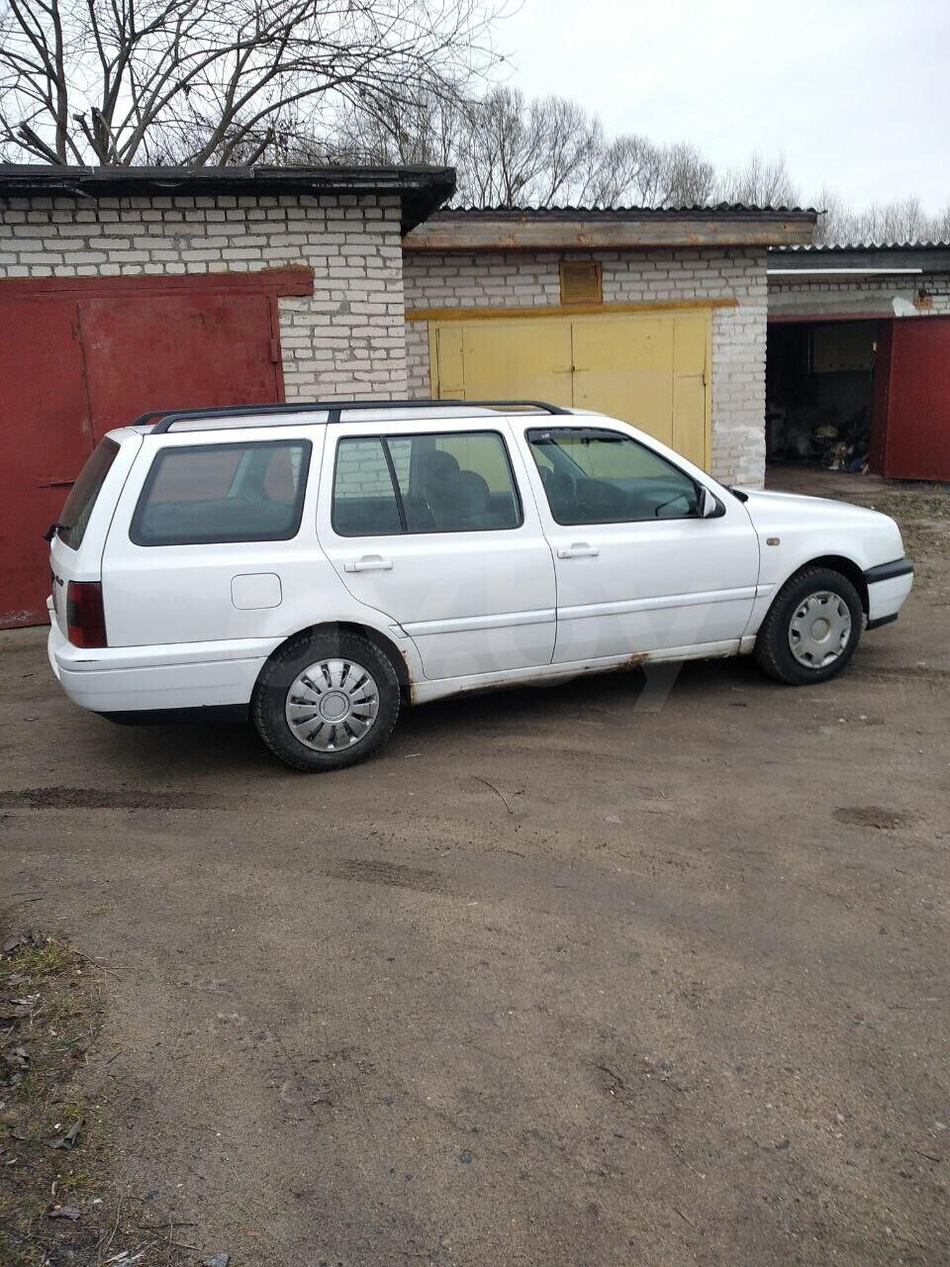Golf_1991-2000: (42, 399, 916, 774)
